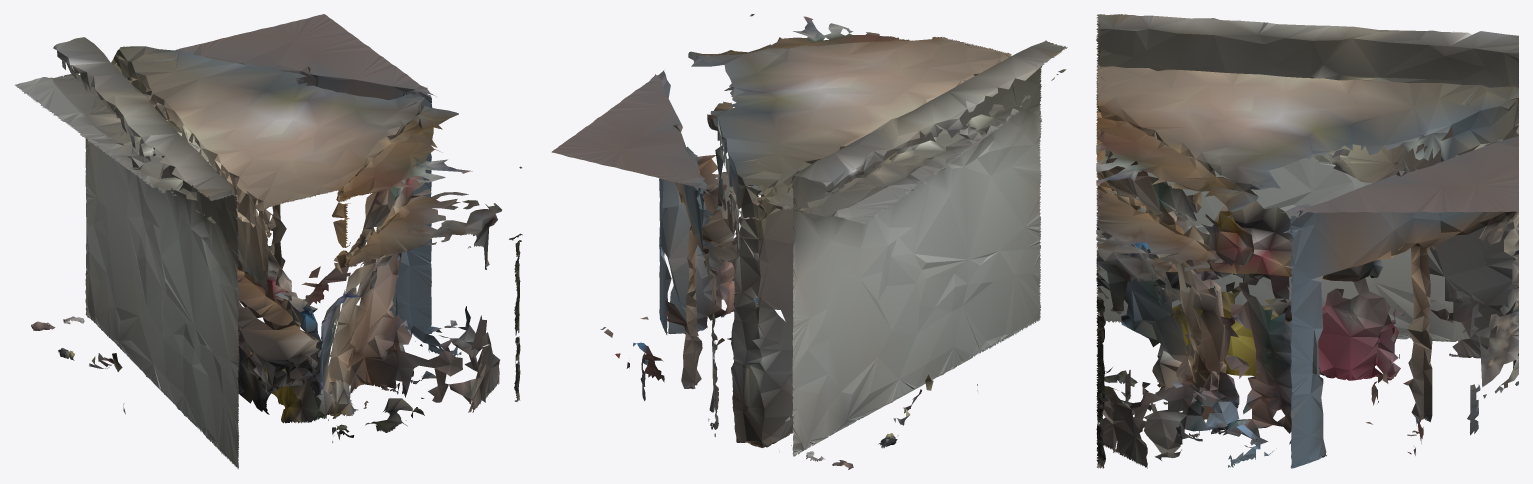
The model's file is coarse.glb.
3 renders of one model, left to right at view 1: azimuth 30°, elevation 25°; view 2: azimuth 150°, elevation 25°; view 3: azimuth 270°, elevation 25°, orthographic. The views are drawn at different scales.
Size of the model in its own units: 1.61 by 1.41 by 1.78.
